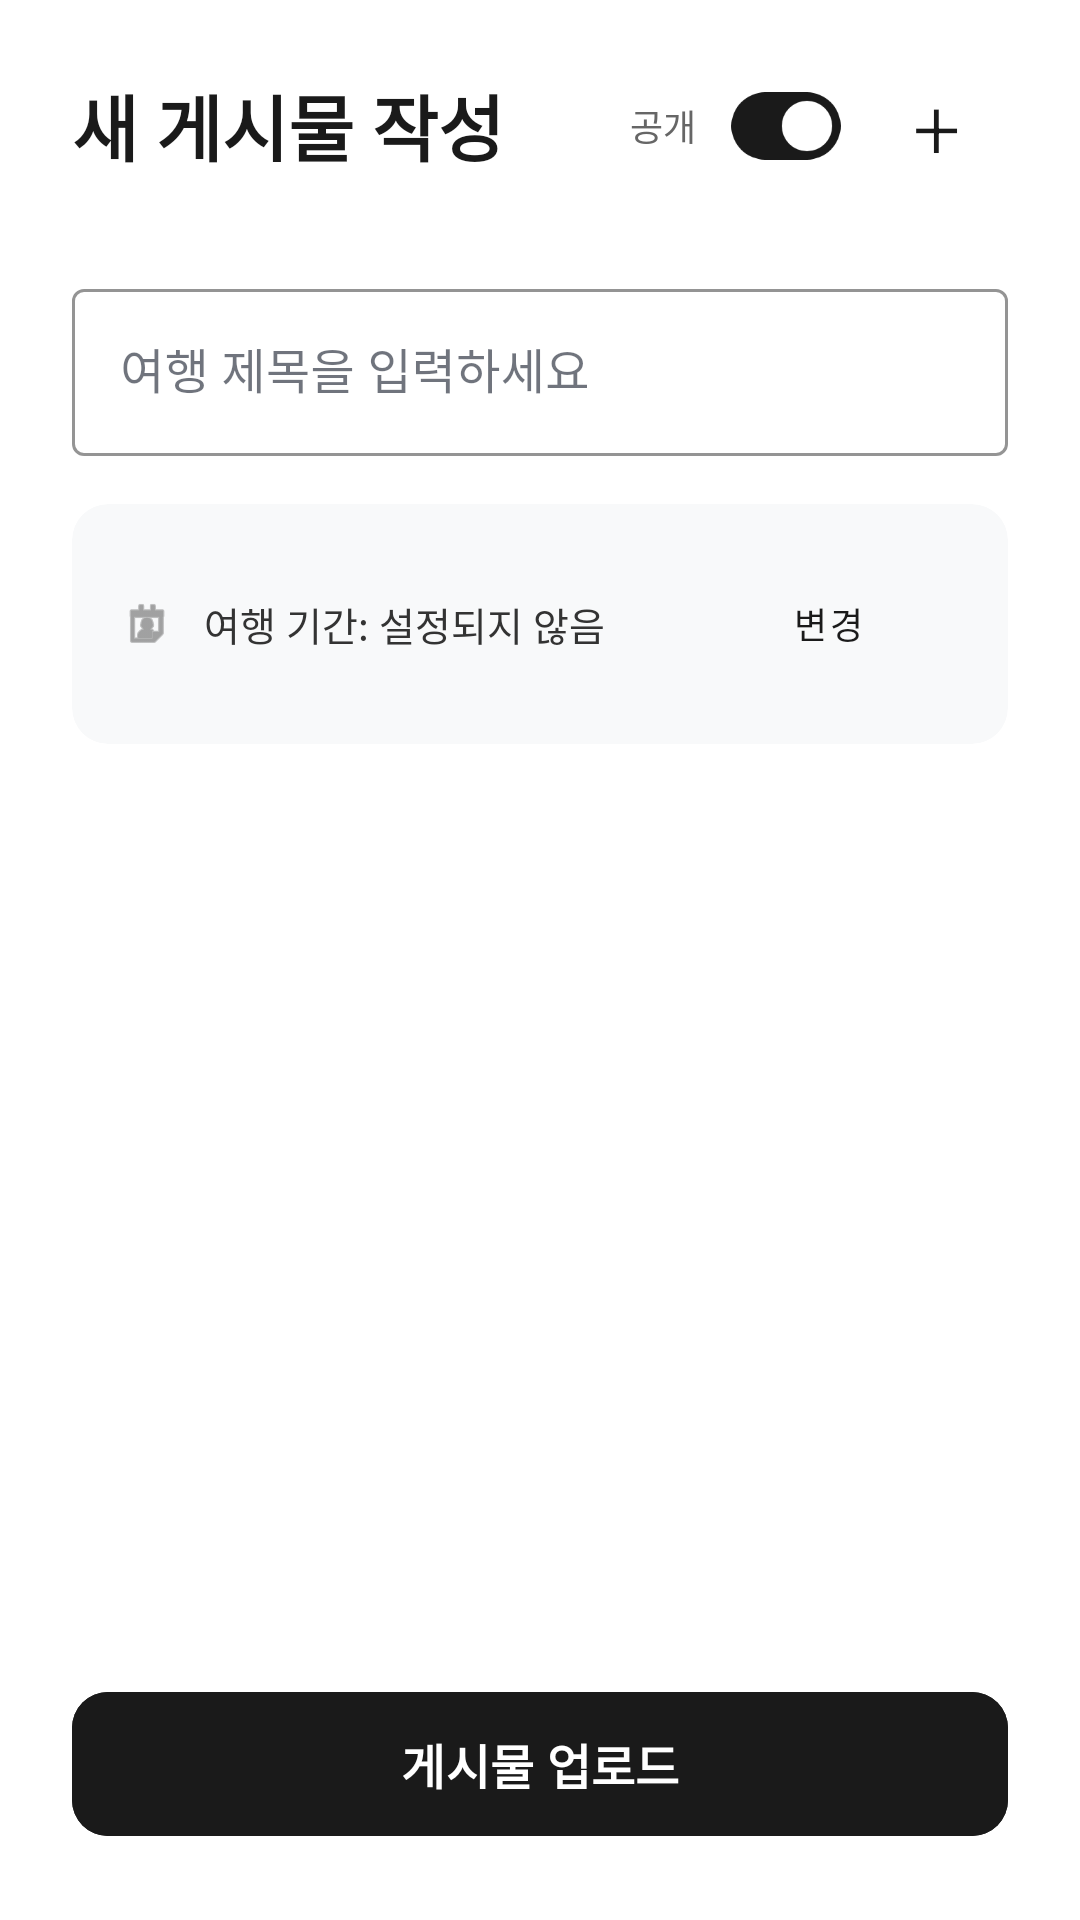

Point at icon controls on the screen. Image size 1080 × 1920, points as [x,y].
calendar: [147,623]
